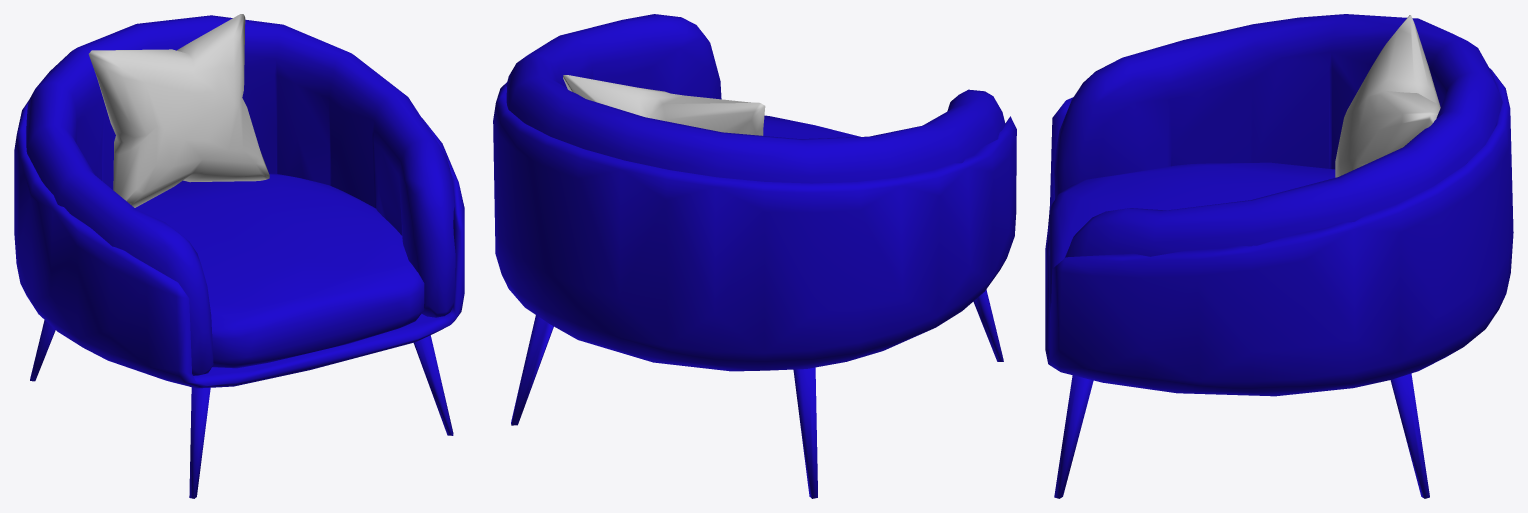
The model's file is sofa_chair.fbx.
3 renders of one model, left to right at view 1: azimuth 30°, elevation 25°; view 2: azimuth 150°, elevation 25°; view 3: azimuth 270°, elevation 25°, orthographic. The views are drawn at different scales.
Parts seen in each view (by area): view 1: Chair, Pillow; view 2: Chair, Pillow; view 3: Chair, Pillow.
Boxes of the visible parts, x1,y1,x2,y2 form: Chair: (14, 15, 464, 498); Pillow: (88, 14, 269, 207); Chair: (493, 14, 1016, 498); Pillow: (563, 75, 765, 135); Chair: (1045, 14, 1513, 498); Pillow: (1335, 15, 1440, 177).
Size of the model in its own units: 0.5117 by 0.4196 by 0.4839.
